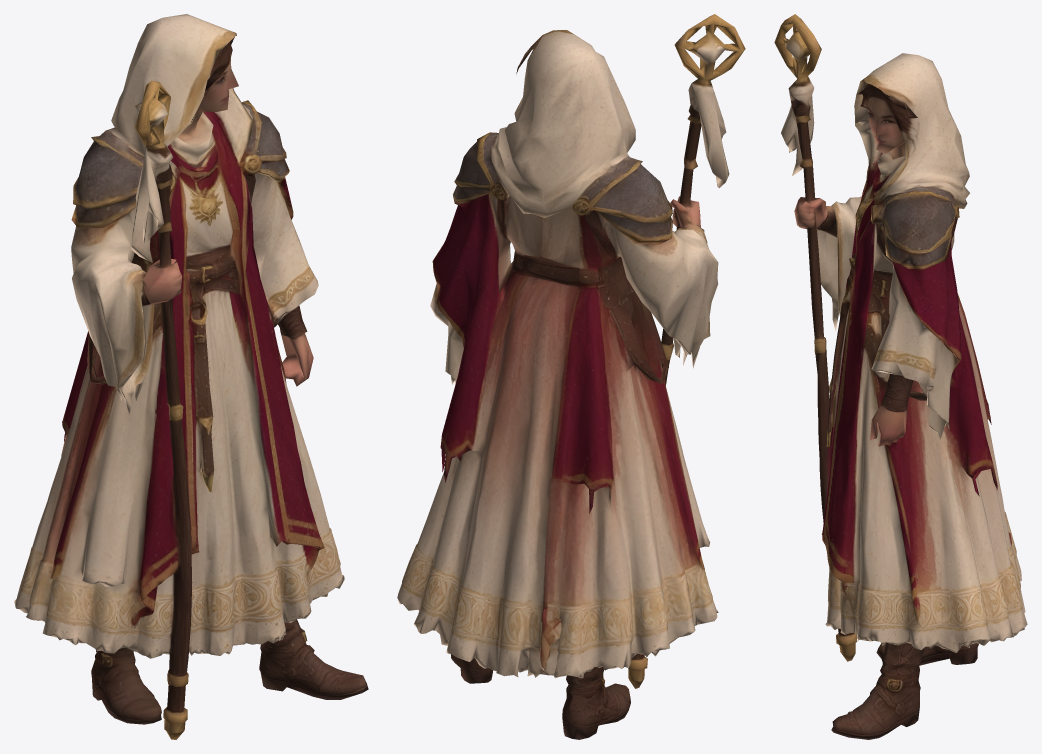
File: cleric.glb
3 renders of one model, left to right at view 1: azimuth 30°, elevation 25°; view 2: azimuth 150°, elevation 25°; view 3: azimuth 270°, elevation 25°, orthographic. The views are drawn at different scales.
Parts seen in each view (by area): view 1: tripo_node_1fc4c0a9-337d-4aab-8d32-a86f8ba47e30; view 2: tripo_node_1fc4c0a9-337d-4aab-8d32-a86f8ba47e30; view 3: tripo_node_1fc4c0a9-337d-4aab-8d32-a86f8ba47e30.
Boxes of the visible parts, box(x1,y1,x2,y2) form: tripo_node_1fc4c0a9-337d-4aab-8d32-a86f8ba47e30: box(14, 14, 368, 739); tripo_node_1fc4c0a9-337d-4aab-8d32-a86f8ba47e30: box(397, 14, 745, 739); tripo_node_1fc4c0a9-337d-4aab-8d32-a86f8ba47e30: box(774, 14, 1027, 739).
Size of the model in its own units: 0.4432 by 0.9984 by 0.367.
1 material, 1 textured.
